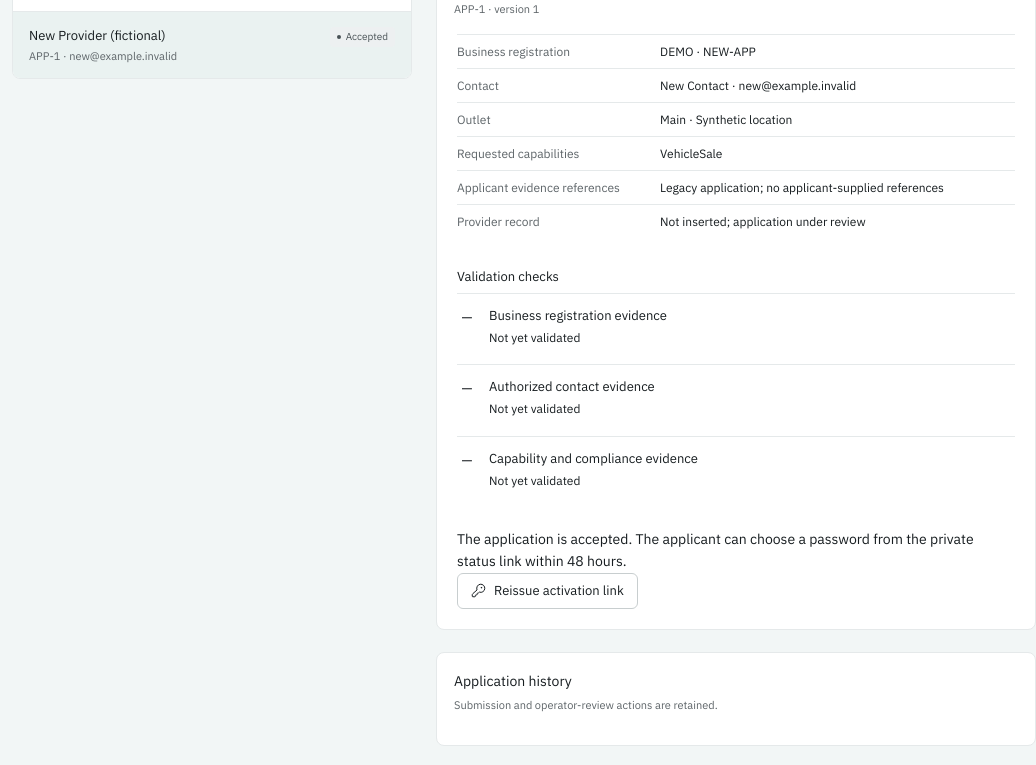
operational feature views › offers activation only after approval and leaves token out of Redux
(page scrolled)
Click the button "Reissue activation link" at coordinates (547, 591), box 457,573 -> 638,609
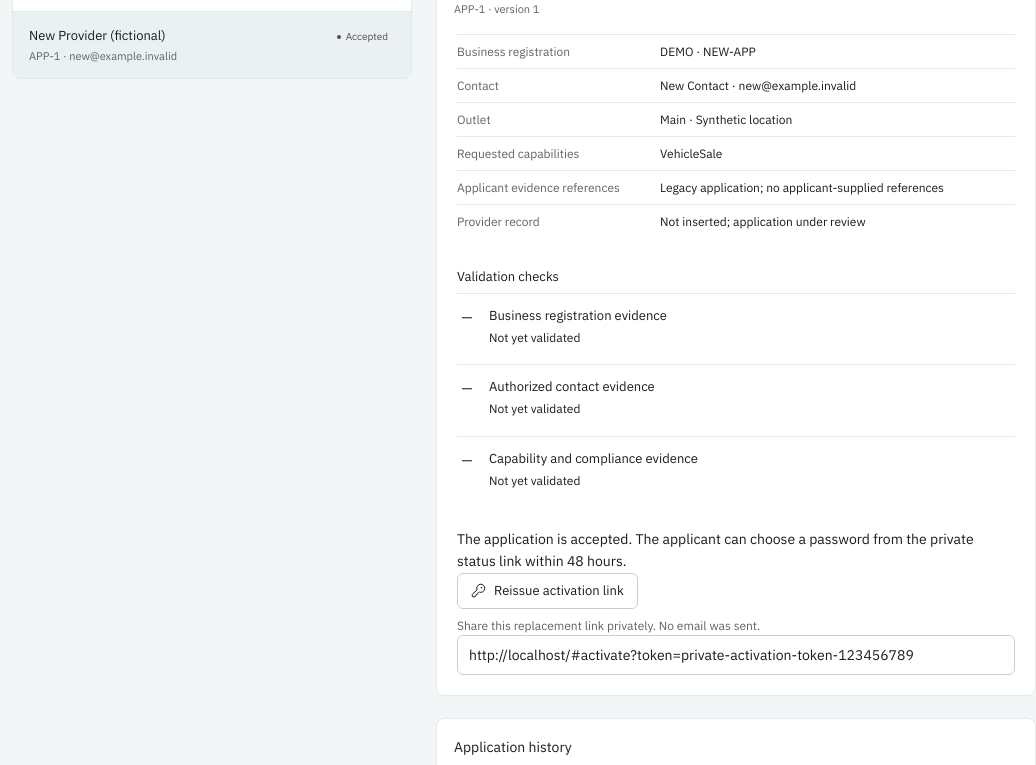
expect the text "Share this replacement link privately. No email was sent." is shown: met, box 457,618 -> 760,633
